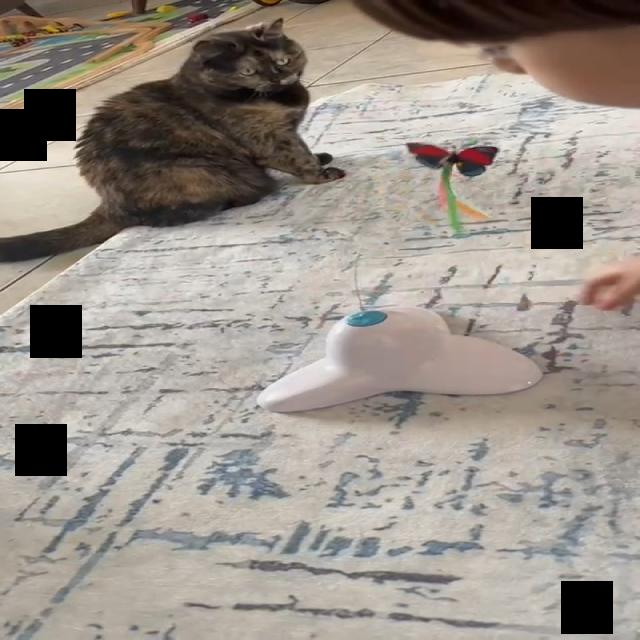authorized: (0, 16, 345, 263)
